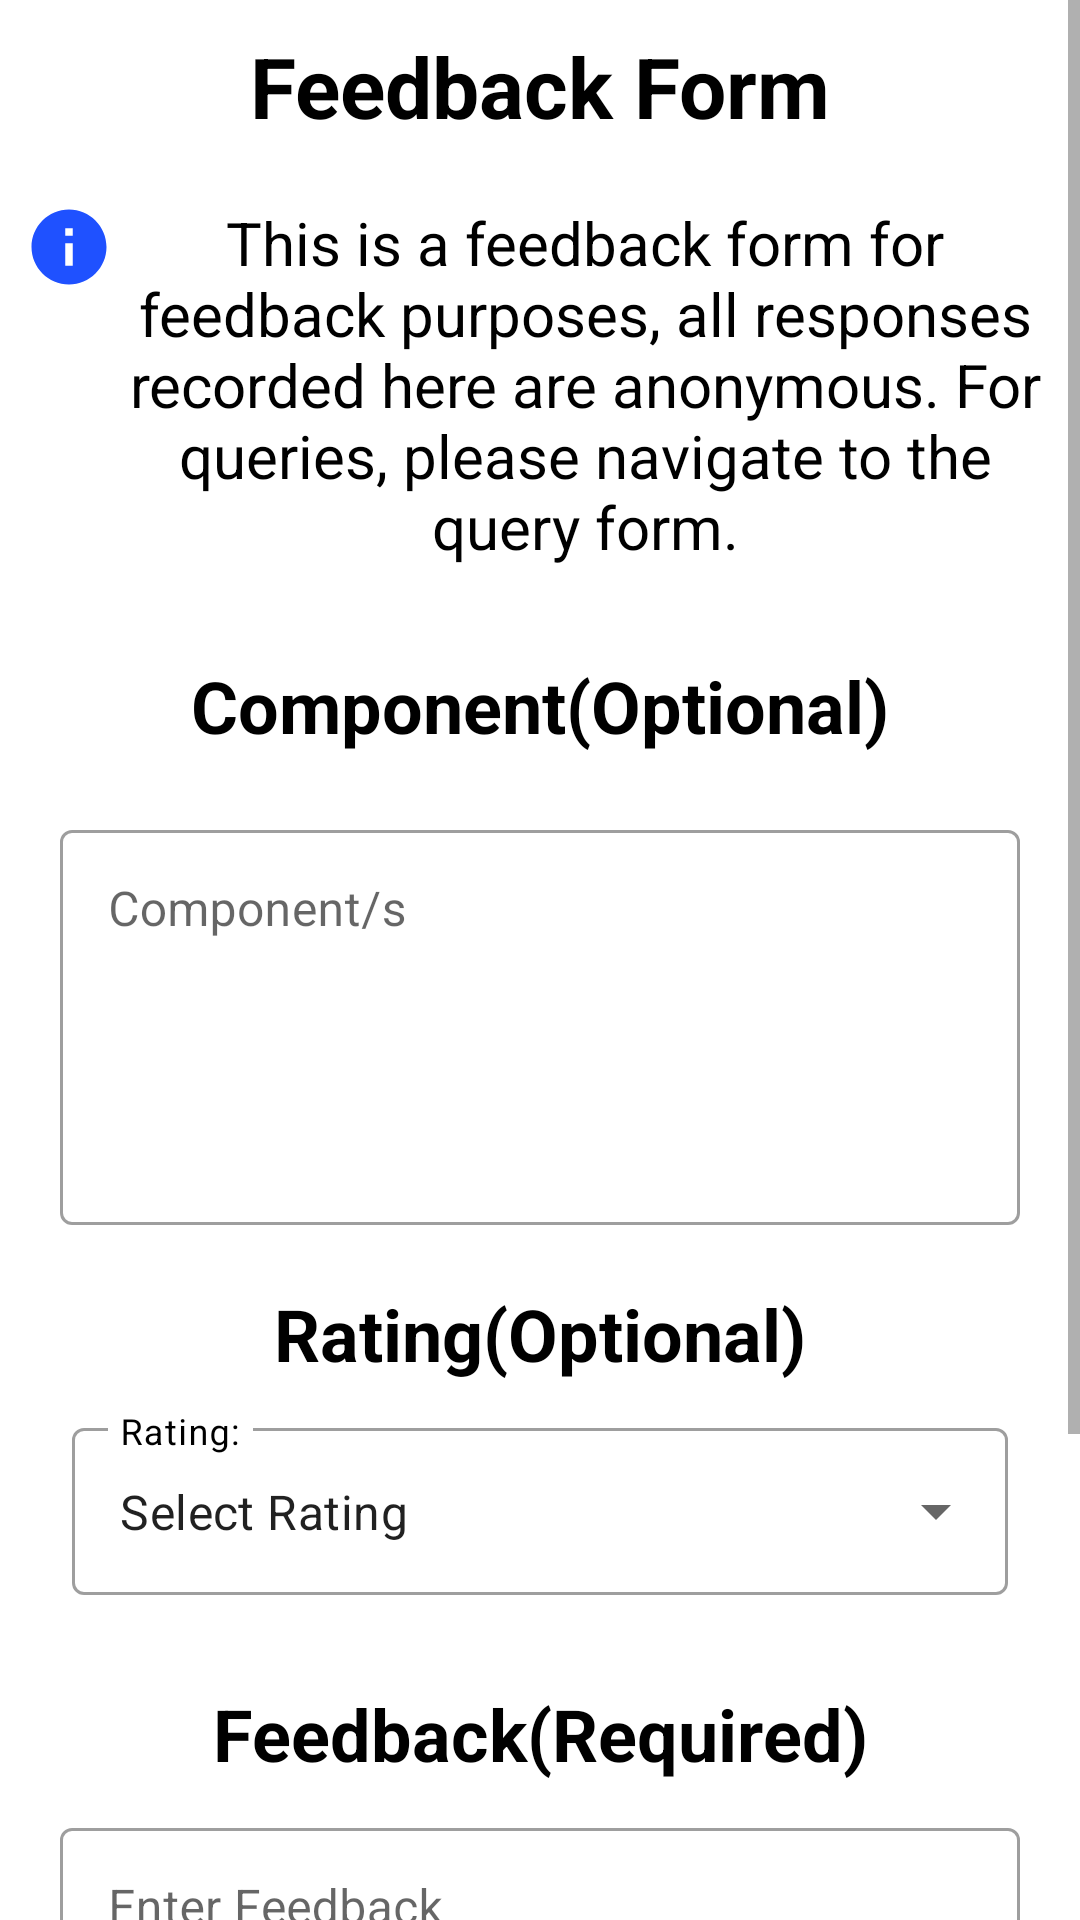

Screen size 1080px x 1920px. Icon name, then its center in pixels as point (x, y):
Information: point (69, 247)
